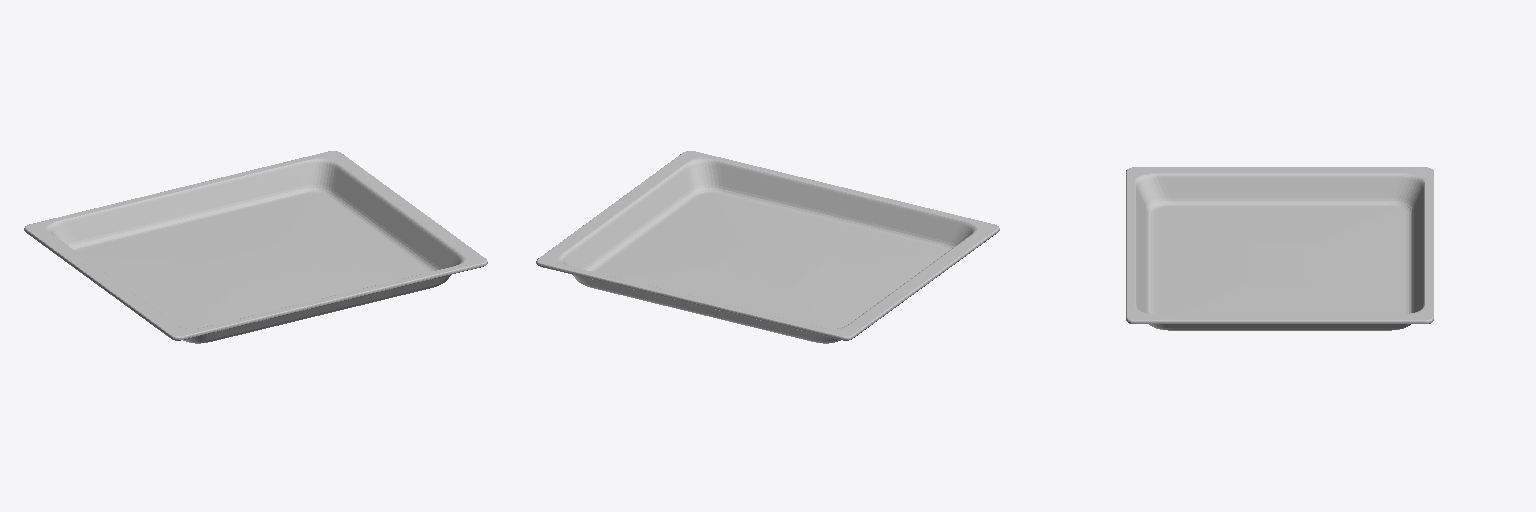
Rendered from OvenTray.obj.
3 views of the same model, side by side, from view 1: azimuth 30°, elevation 25°; view 2: azimuth 150°, elevation 25°; view 3: azimuth 270°, elevation 25° (orthographic).
Parts seen in each view (by area): view 1: SM_Oven_Tray_20; view 2: SM_Oven_Tray_20; view 3: SM_Oven_Tray_20.
Part boxes in pixels (left/top/right/bottom): SM_Oven_Tray_20: left=24, top=151, right=487, bottom=343; SM_Oven_Tray_20: left=536, top=151, right=999, bottom=343; SM_Oven_Tray_20: left=1126, top=167, right=1433, bottom=330.
Bounding box in the file's own units: 45.6 × 3.38 × 38.51.